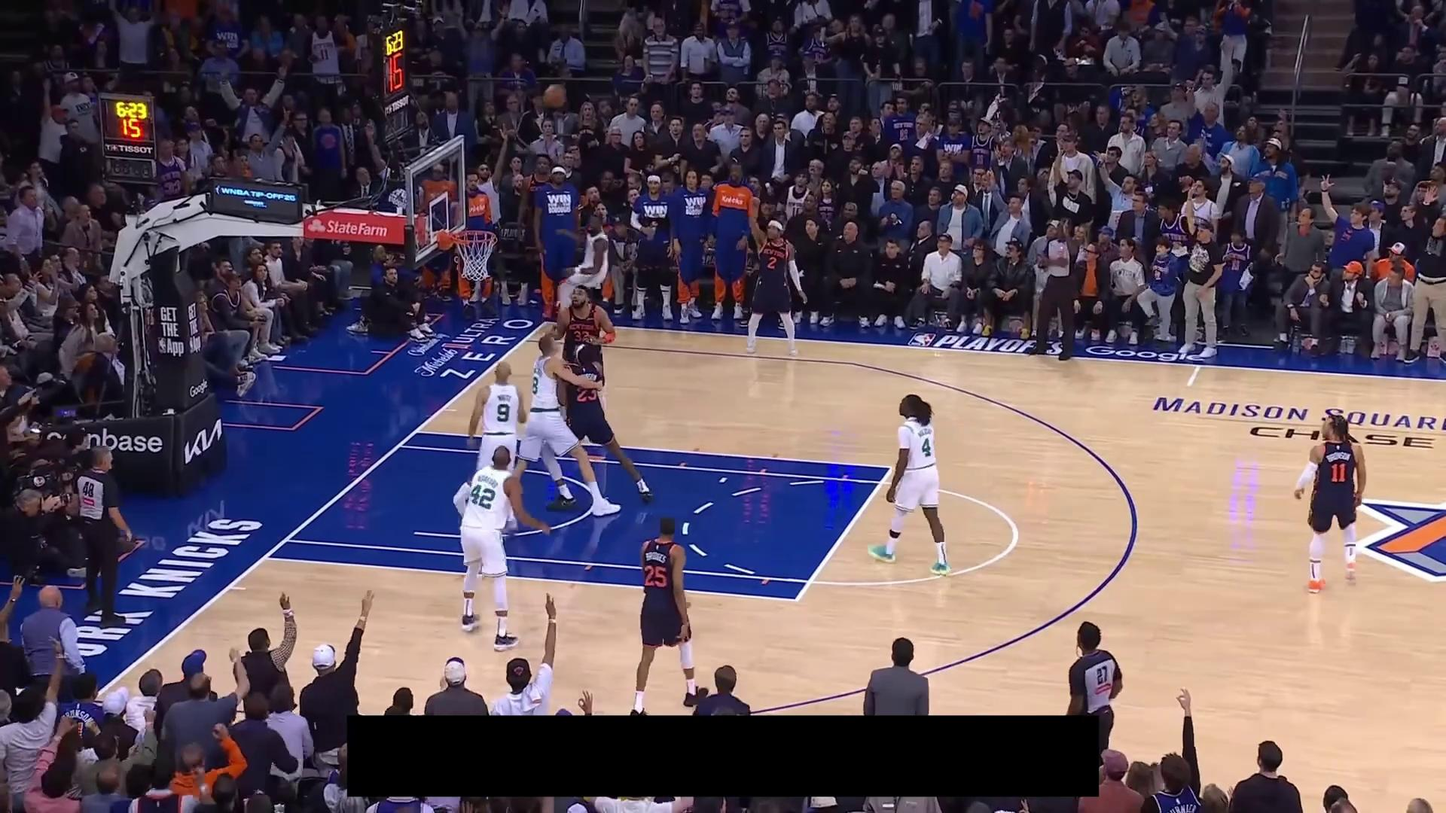ball: (542, 84, 566, 108)
number: (468, 483, 496, 510), (644, 565, 668, 588), (576, 387, 600, 403), (1331, 462, 1347, 484), (496, 403, 511, 423), (921, 437, 933, 457), (573, 329, 587, 343), (532, 376, 540, 394), (767, 256, 777, 270)
player: (450, 444, 552, 653), (511, 335, 621, 516), (541, 342, 652, 516), (868, 394, 953, 577), (628, 515, 703, 714), (1293, 410, 1368, 596), (462, 361, 528, 529), (740, 196, 807, 357), (545, 283, 616, 373), (558, 214, 610, 316)
referee: (66, 444, 135, 629), (1027, 221, 1093, 361), (1063, 621, 1124, 767)
rim: (452, 228, 498, 245)
